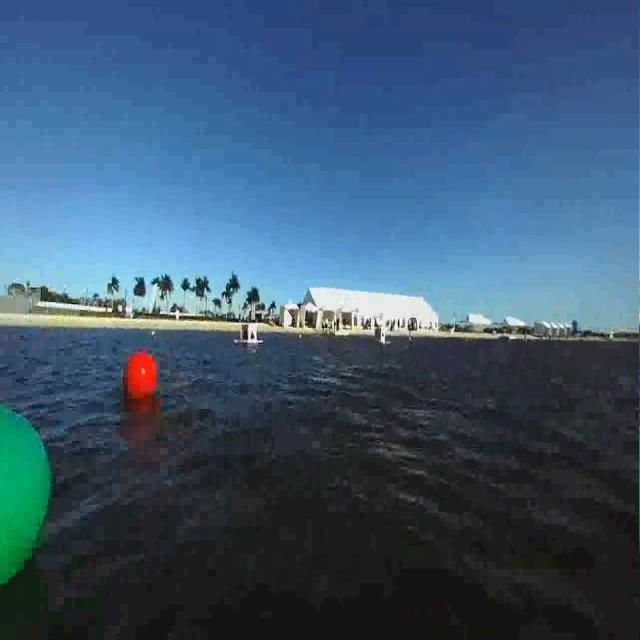green-buoy: (0, 402, 55, 599)
red-buoy: (125, 351, 162, 404)
